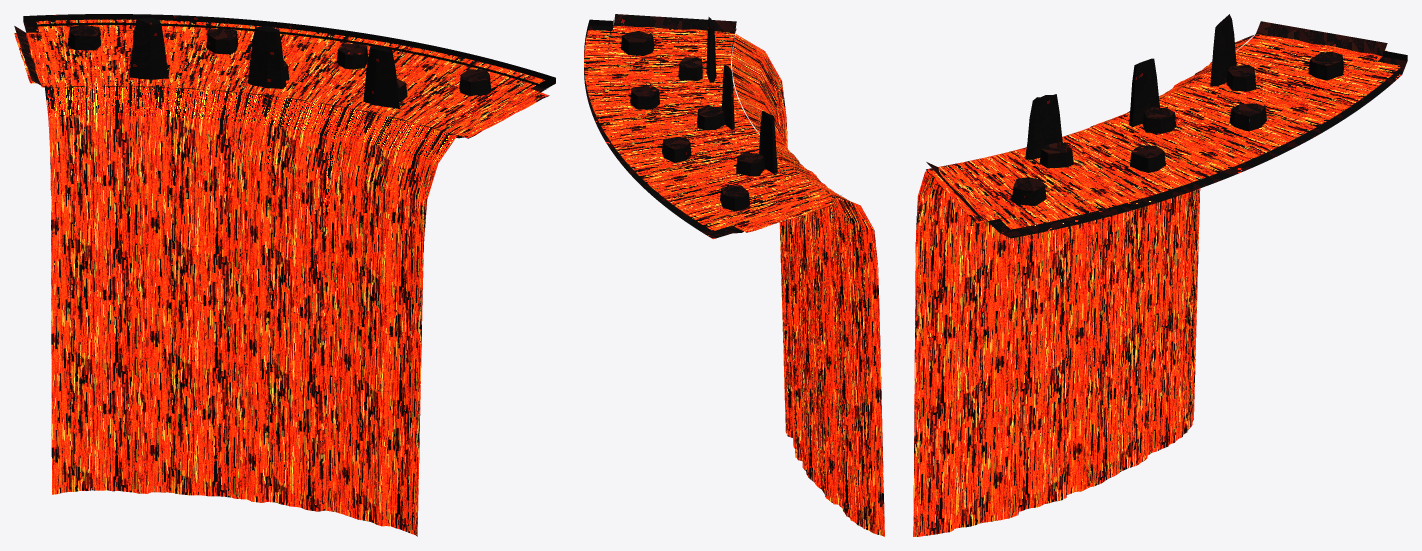
The model's file is lake_section.glb.
3 renders of one model, left to right at view 1: azimuth 30°, elevation 25°; view 2: azimuth 150°, elevation 25°; view 3: azimuth 270°, elevation 25°, orthographic. The views are drawn at different scales.
Parts seen in each view (by area): view 1: LakeSection; view 2: LakeSection; view 3: LakeSection.
Boxes of the visible parts, left/top/right/bottom form: LakeSection: left=14, top=14, right=555, bottom=536; LakeSection: left=584, top=14, right=884, bottom=536; LakeSection: left=913, top=14, right=1407, bottom=536.
Size of what is drawn, in the model's own units: 38.18 by 39.01 by 38.23.
Materials: 2 (2 with a texture image).
